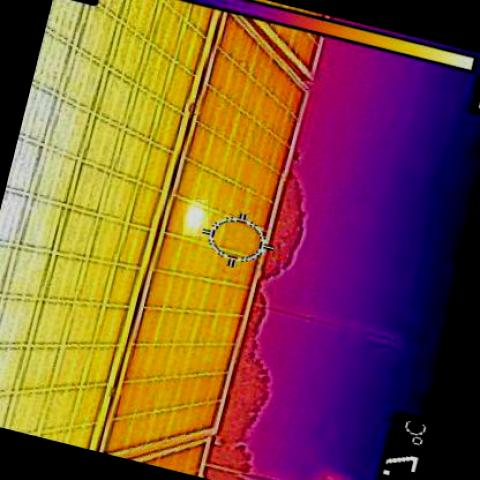fault: (183, 200, 208, 236)
